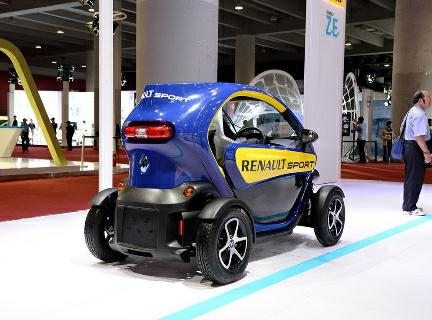雷诺-Twizy: (82, 78, 354, 291)
